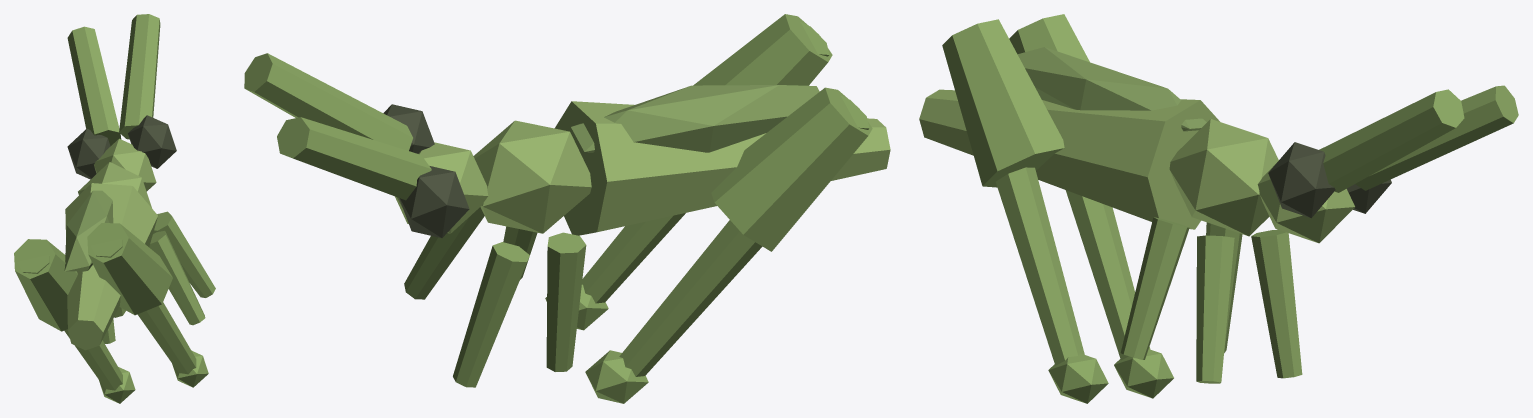
3 views of the same model, side by side, from view 1: azimuth 30°, elevation 25°; view 2: azimuth 150°, elevation 25°; view 3: azimuth 270°, elevation 25° (orthographic). The views are drawn at different scales.
Visible parts, largest first — view 1: part2, part11, part5, part6, part14, part12, part17, part9, part7, part15, part3, part0 (+5 smaller); view 2: part2, part14, part17, part1, part15, part6, part5, part11, part8, part10, part12, part4 (+6 smaller); view 3: part2, part11, part1, part12, part5, part17, part15, part7, part8, part9, part6, part3 (+6 smaller).
Part boxes in pixels (left/top/right/bottom): part2: left=65, top=183, right=157, bottom=350; part11: left=87, top=223, right=172, bottom=315; part5: left=119, top=14, right=160, bottom=139; part6: left=67, top=26, right=121, bottom=146; part14: left=14, top=239, right=77, bottom=331; part12: left=91, top=238, right=196, bottom=374; part17: left=64, top=190, right=113, bottom=271; part9: left=149, top=231, right=205, bottom=325; part7: left=153, top=211, right=215, bottom=297; part15: left=17, top=255, right=122, bottom=390; part3: left=128, top=115, right=176, bottom=168; part0: left=94, top=138, right=156, bottom=191; part2: left=554, top=101, right=890, bottom=235; part14: left=711, top=87, right=872, bottom=251; part17: left=571, top=85, right=819, bottom=152; part1: left=473, top=120, right=591, bottom=233; part15: left=619, top=96, right=869, bottom=376; part6: left=277, top=117, right=431, bottom=200; part5: left=244, top=53, right=412, bottom=150; part11: left=693, top=14, right=832, bottom=85; part8: left=453, top=242, right=529, bottom=387; part10: left=546, top=232, right=586, bottom=371; part12: left=582, top=22, right=829, bottom=303; part4: left=399, top=166, right=469, bottom=238; part2: left=919, top=89, right=1219, bottom=229; part11: left=942, top=19, right=1064, bottom=187; part1: left=1169, top=119, right=1278, bottom=236; part12: left=996, top=167, right=1084, bottom=365; part5: left=1319, top=89, right=1464, bottom=192; part17: left=1017, top=47, right=1206, bottom=131; part15: left=1065, top=190, right=1150, bottom=360; part7: left=1196, top=235, right=1234, bottom=383; part8: left=1251, top=229, right=1302, bottom=378; part9: left=1120, top=217, right=1189, bottom=359; part6: left=1355, top=85, right=1518, bottom=190; part3: left=1268, top=142, right=1335, bottom=218.
Bounding box in the file's own units: 7.49 × 6.95 × 9.6.
